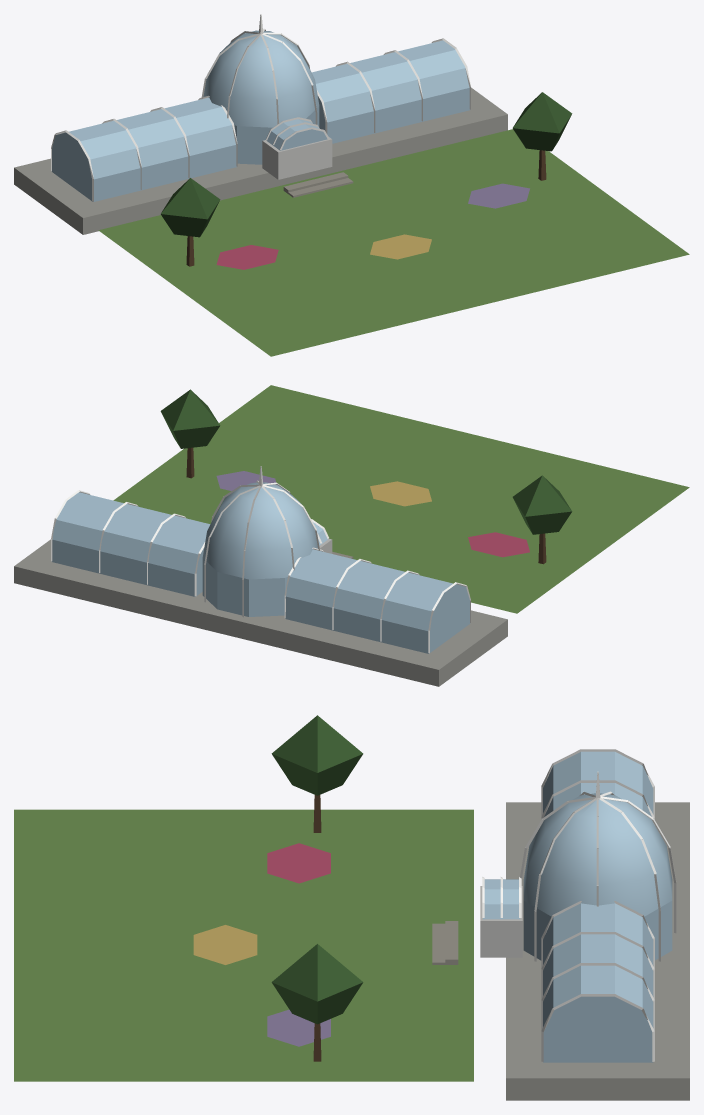
Rendered from mobile.glb.
3 views of the same model, one above another, from view 1: azimuth 30°, elevation 25°; view 2: azimuth 150°, elevation 25°; view 3: azimuth 270°, elevation 25° (orthographic). The views are drawn at different scales.
Visible parts, largest first — view 1: lm.flower-conservatory; view 2: lm.flower-conservatory; view 3: lm.flower-conservatory.
Boxes of the visible parts, x1,y1,x2,y2 form: lm.flower-conservatory: (14, 14, 689, 356); lm.flower-conservatory: (14, 385, 689, 686); lm.flower-conservatory: (14, 715, 689, 1100).
Size of the model in its own units: 71 by 22.9 by 73.5.
